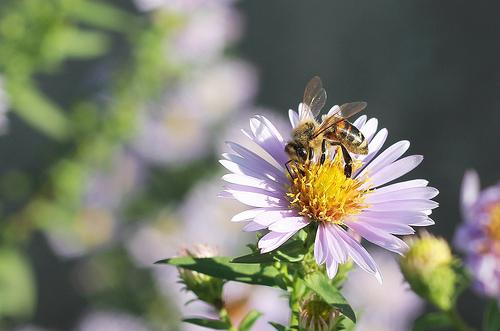daisy: (220, 99, 438, 288)
